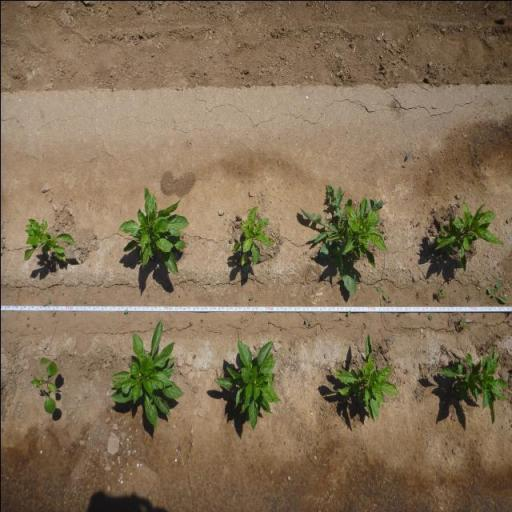plant: (106, 324, 184, 430), (330, 330, 402, 430), (116, 181, 190, 276), (212, 334, 278, 436), (432, 350, 512, 428), (432, 196, 504, 274), (342, 195, 389, 270), (17, 212, 77, 267), (230, 204, 273, 266), (27, 354, 62, 418)
weed: (300, 180, 362, 299), (485, 281, 507, 305), (374, 285, 388, 301), (434, 286, 445, 300), (457, 316, 467, 330), (42, 296, 52, 307), (346, 308, 352, 319), (303, 318, 311, 326), (427, 312, 433, 322), (227, 236, 232, 244), (123, 309, 128, 314), (248, 296, 253, 300)
